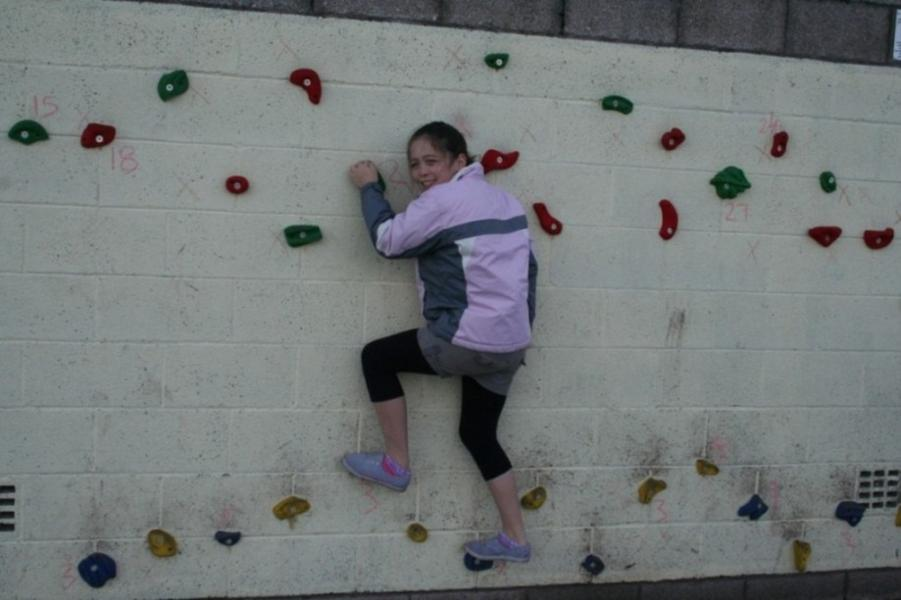person: (340, 121, 541, 563)
